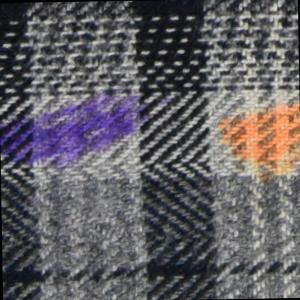Stain: (1, 90, 150, 179), (202, 91, 300, 195)
